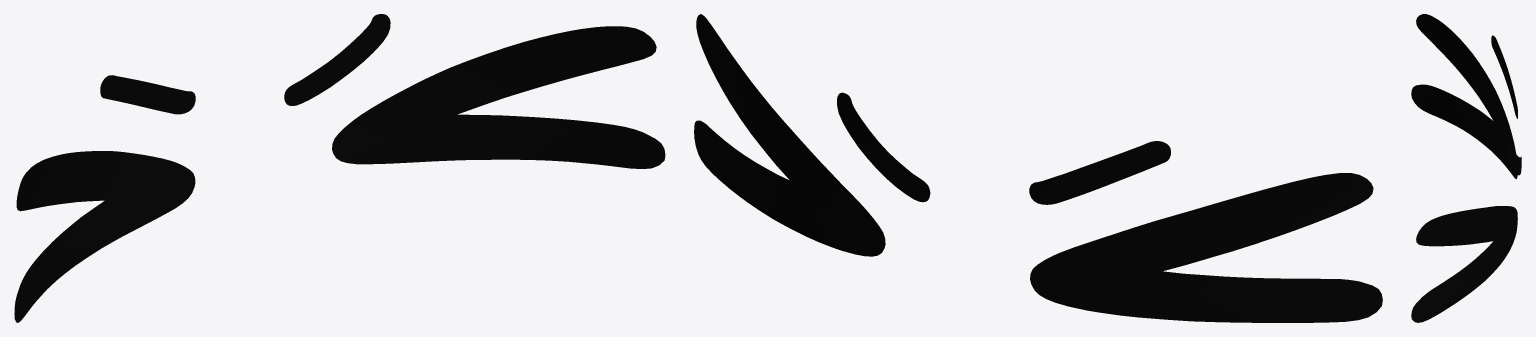
The model's file is 22-Silly-Smile-eyes.glb.
3 renders of one model, left to right at view 1: azimuth 30°, elevation 25°; view 2: azimuth 150°, elevation 25°; view 3: azimuth 270°, elevation 25°, orthographic. The views are drawn at different scales.
Visible parts, largest first — view 1: 22-Silly-Smile-eyes; view 2: 22-Silly-Smile-eyes; view 3: 22-Silly-Smile-eyes.
Boxes of the visible parts, <box> form: 22-Silly-Smile-eyes: <box>14,14,665,322</box>; 22-Silly-Smile-eyes: <box>694,14,1382,322</box>; 22-Silly-Smile-eyes: <box>1411,14,1521,322</box>.
Bounding box in the file's own units: 0.8553 × 0.2181 × 0.1799.
4 materials, 4 textured.
